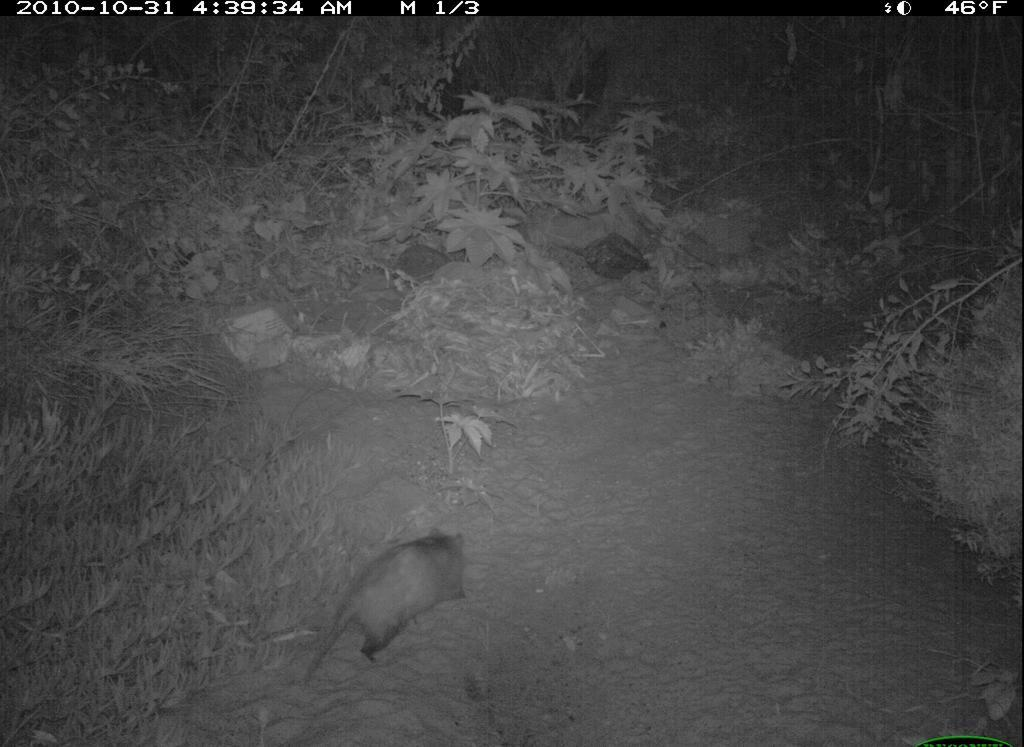opossum: (290, 520, 474, 701)
